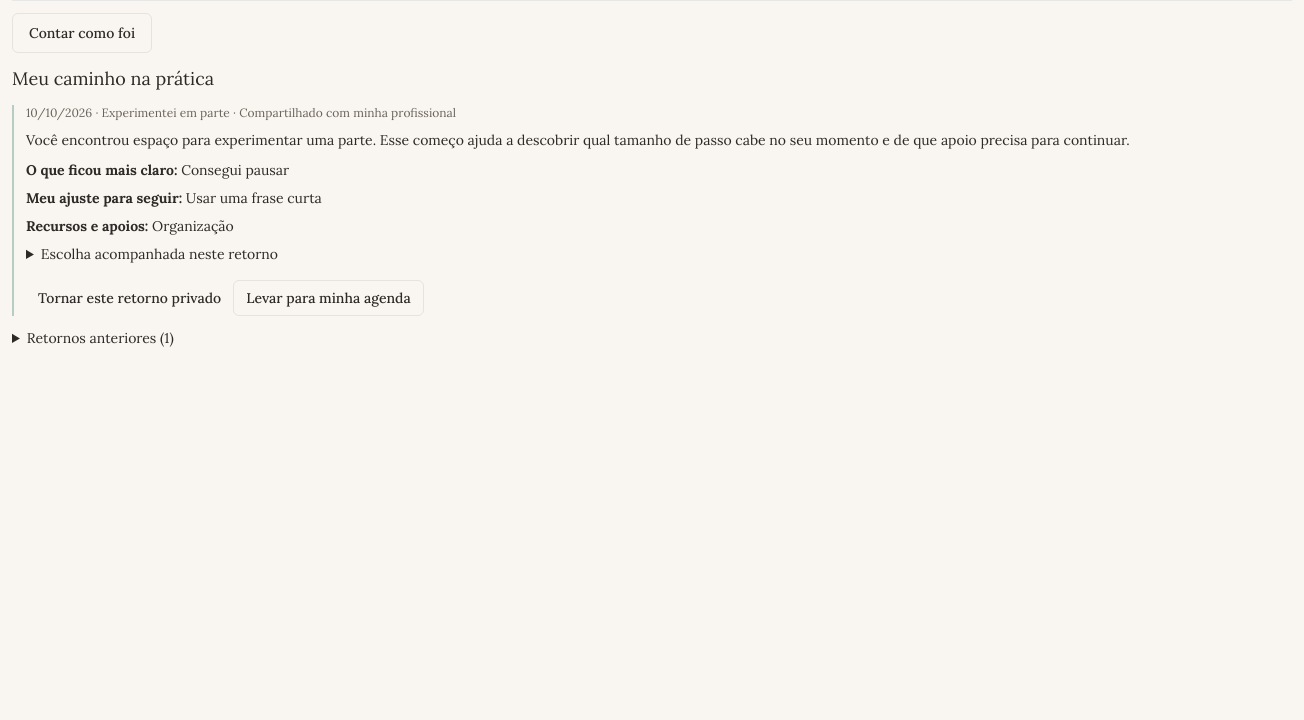
acompanha o último ajuste e preserva retornos anteriores, mesmo que a situação seja editada
Expected: the heading "Retornos anteriores (1)" is shown, [27,329,174,347]
Click the button "Contar como foi" at (82, 33), box [12,13,152,53]
(page scrolled)
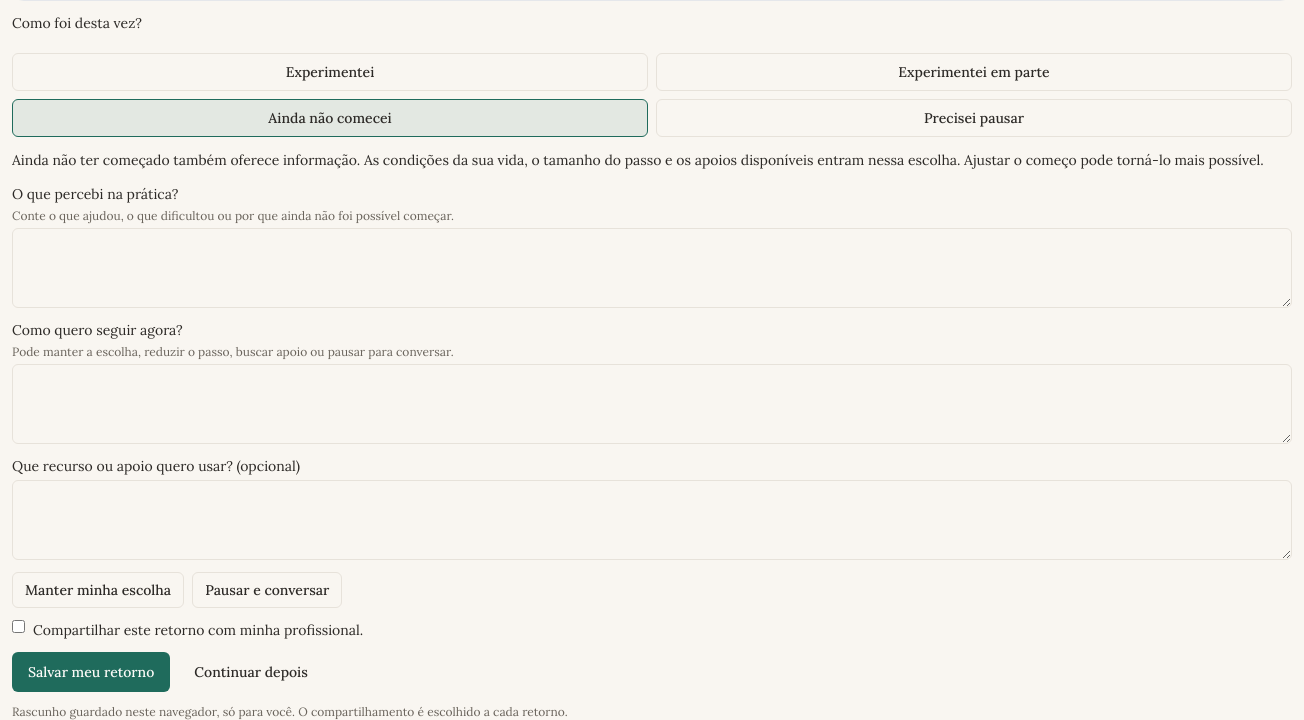
Click the button "Manter minha escolha" at (98, 590), box [12,572,184,608]
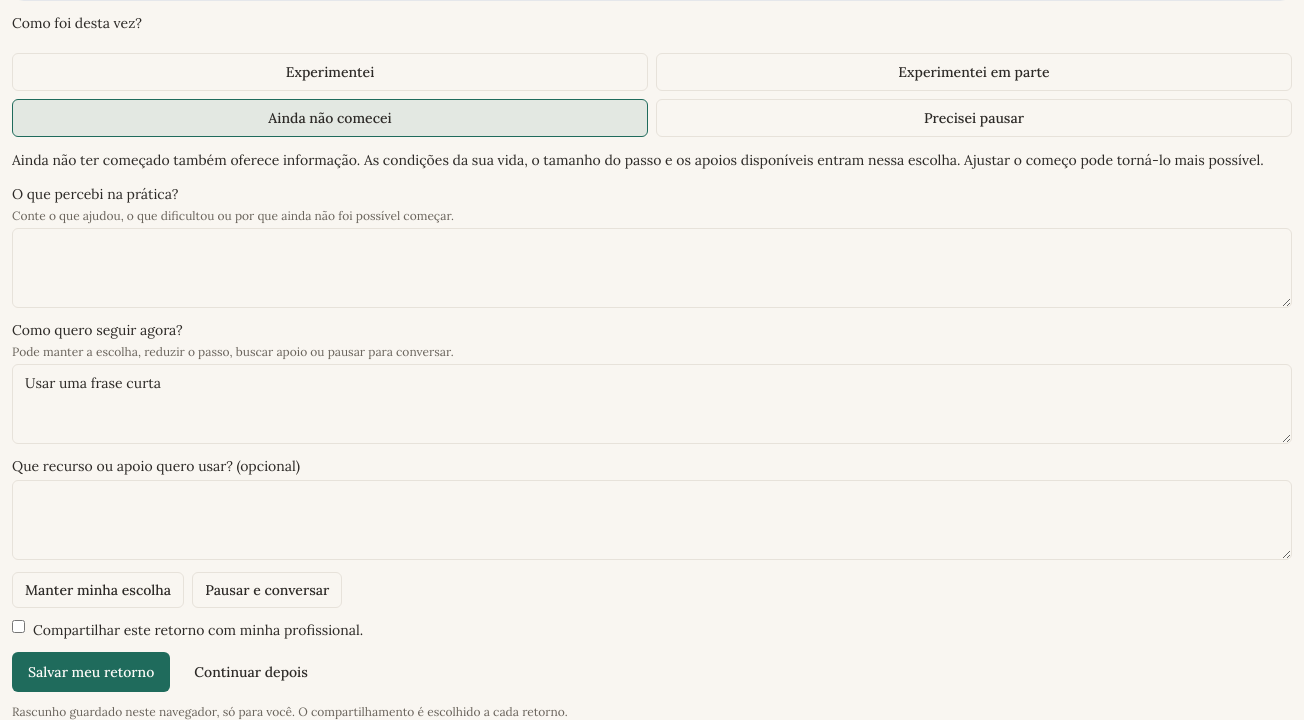
Now the text box labelled "Como quero seguir agora" holds "Usar uma frase curta", box [12,364,1292,444]
